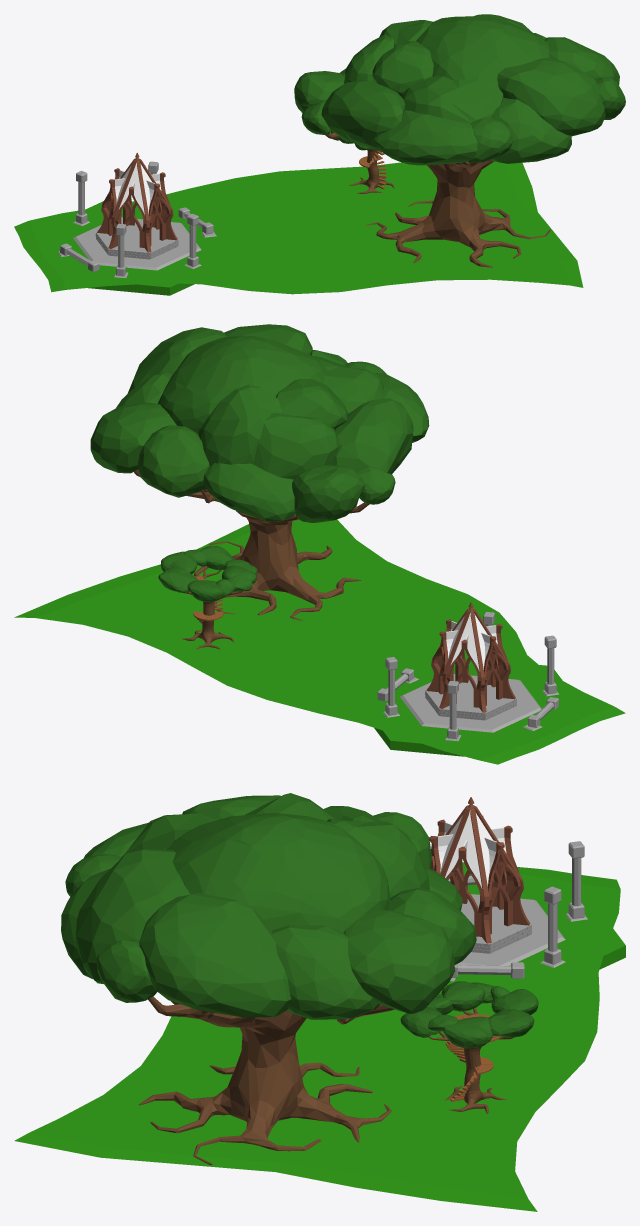
Rendered from ElfForestShowcase.glb.
3 views of the same model, one above another, from view 1: azimuth 30°, elevation 25°; view 2: azimuth 150°, elevation 25°; view 3: azimuth 270°, elevation 25° (orthographic). The views are drawn at different scales.
Parts seen in each view (by area): view 1: WorldTree, ForestShowcase, ElfShrine, Guardpost; view 2: WorldTree, ForestShowcase, ElfShrine, Guardpost; view 3: WorldTree, ForestShowcase, ElfShrine, Guardpost.
Boxes of the visible parts, x1=… form: WorldTree: x1=294, y1=14, x2=625, y2=267; ForestShowcase: x1=14, y1=161, x2=583, y2=294; ElfShrine: x1=32, y1=152, x2=216, y2=295; Guardpost: x1=331, y1=131, x2=394, y2=193; WorldTree: x1=90, y1=324, x2=429, y2=620; ForestShowcase: x1=14, y1=519, x2=625, y2=764; ElfShrine: x1=374, y1=602, x2=562, y2=756; Guardpost: x1=158, y1=546, x2=257, y2=649; WorldTree: x1=61, y1=793, x2=476, y2=1165; ForestShowcase: x1=14, y1=862, x2=620, y2=1211; ElfShrine: x1=429, y1=797, x2=625, y2=981; Guardpost: x1=400, y1=981, x2=538, y2=1114.
Size of the model in its own units: 42.75 by 17.38 by 30.69.
